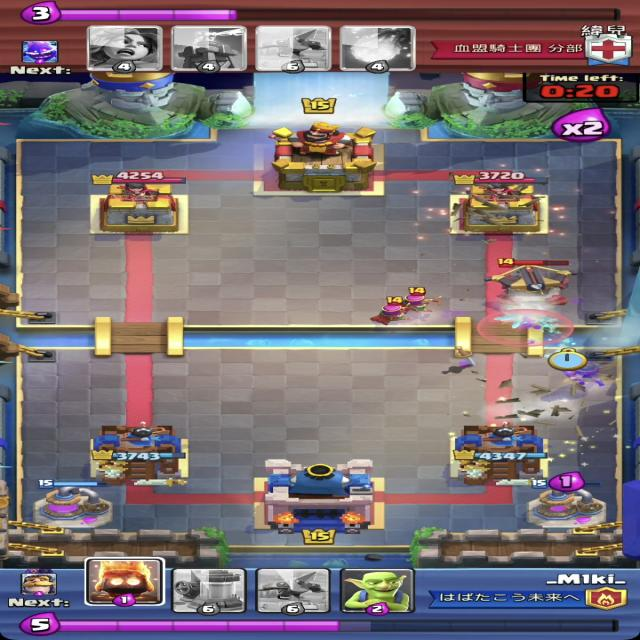Enemy-Archer: (369, 296, 417, 327), (400, 288, 439, 322)
Enemy-XBow: (482, 258, 582, 306)
Player-ElixirPump: (525, 478, 609, 530), (31, 479, 115, 530)
Player-Musketeer: (558, 353, 616, 390)
